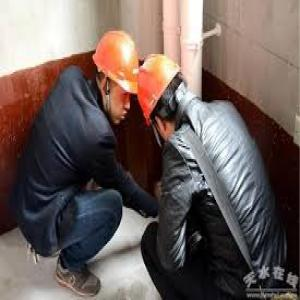yellow: (138, 52, 191, 145), (93, 27, 137, 124)
